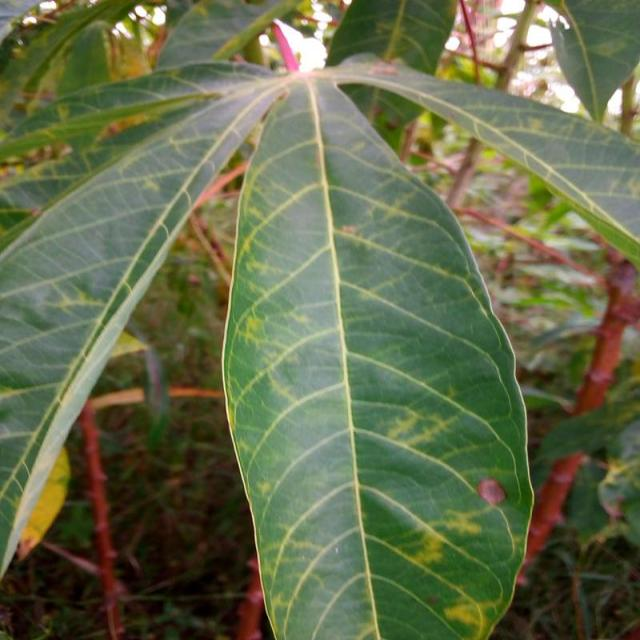cassava leaf: (220, 70, 535, 638)
